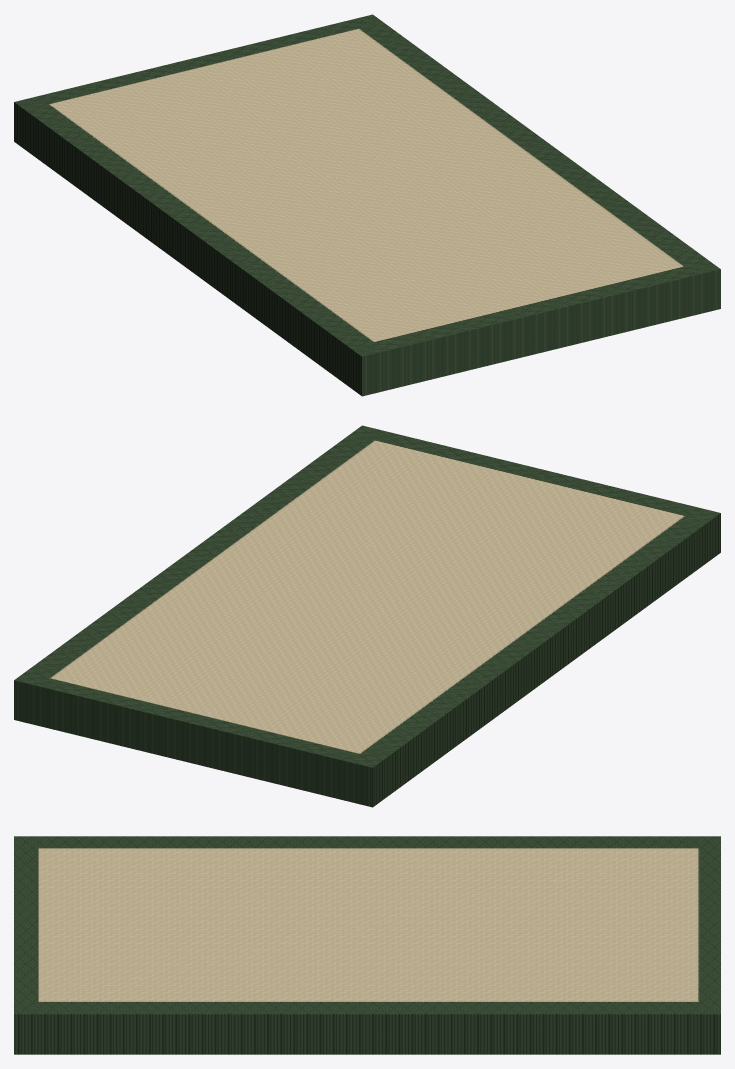
Rendered from tatami.obj.
3 renders of one model, top to bottom at view 1: azimuth 30°, elevation 25°; view 2: azimuth 150°, elevation 25°; view 3: azimuth 270°, elevation 25°, orthographic.
Parts seen in each view (by area): view 1: 立方体; view 2: 立方体; view 3: 立方体.
Part boxes in pixels (x1=…): 立方体: x1=14, y1=14, x2=720, y2=396; 立方体: x1=14, y1=425, x2=720, y2=807; 立方体: x1=14, y1=836, x2=720, y2=1054.
Size of the model in its own units: 3.87 by 0.4088 by 6.51.
Materials: 1 (1 with a texture image).
